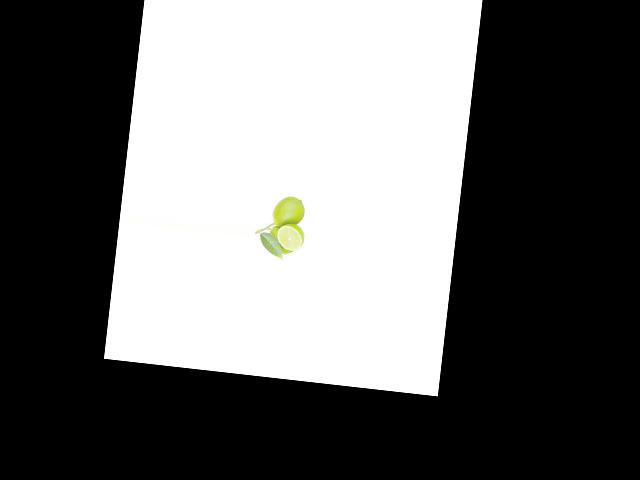lemon: (264, 225, 296, 257)
